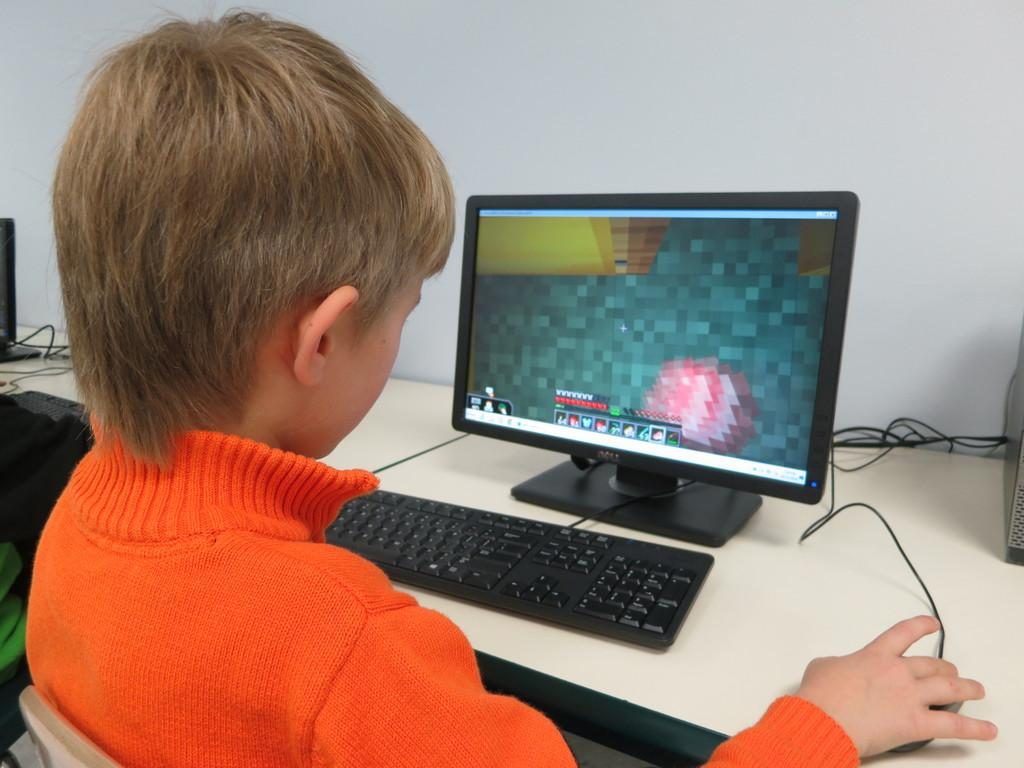Computer-keyboard: (325, 481, 714, 652), (4, 383, 92, 423)
